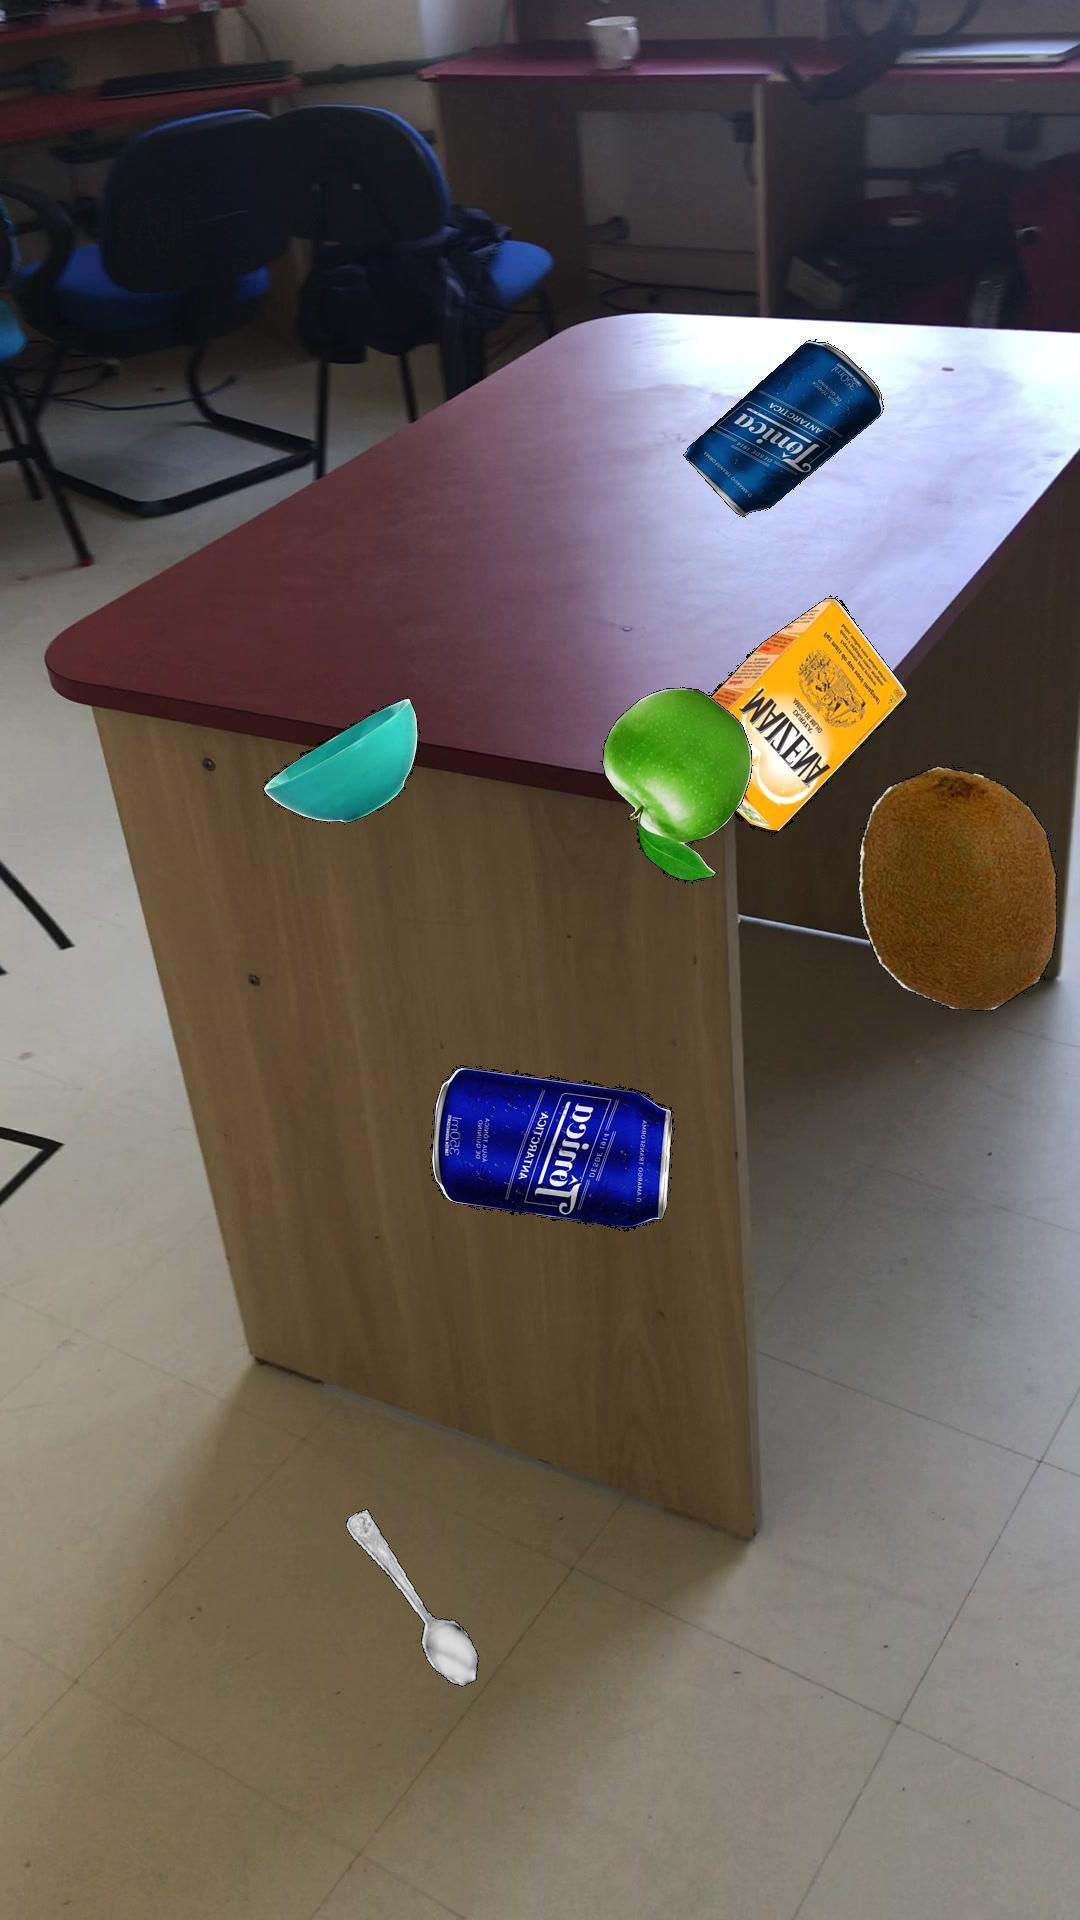bowl: (261, 696, 418, 822)
green apple: (599, 686, 752, 882)
kiwi: (857, 765, 1055, 1010)
spoon: (344, 1507, 477, 1685)
tonic: (429, 1065, 673, 1230), (682, 338, 882, 516)
